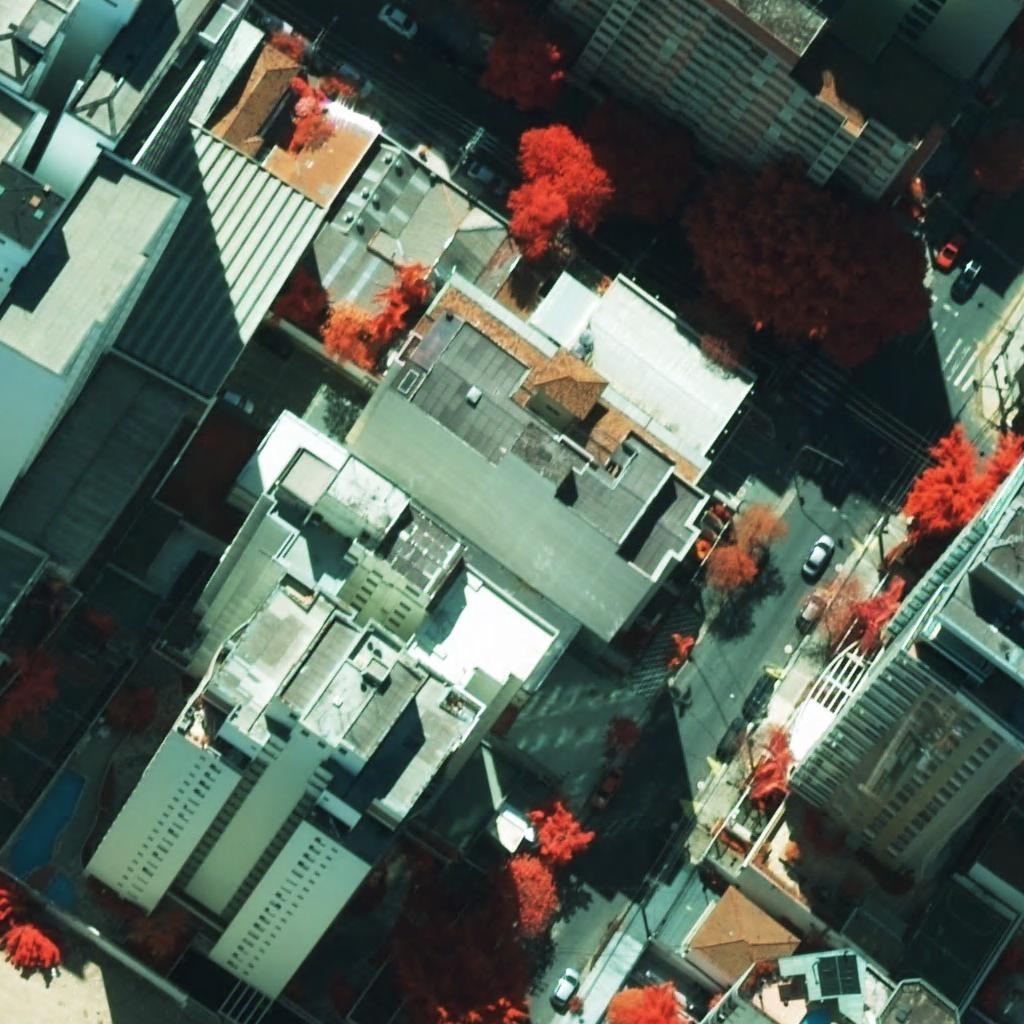pool: (11, 767, 85, 916), (799, 1010, 830, 1024)
